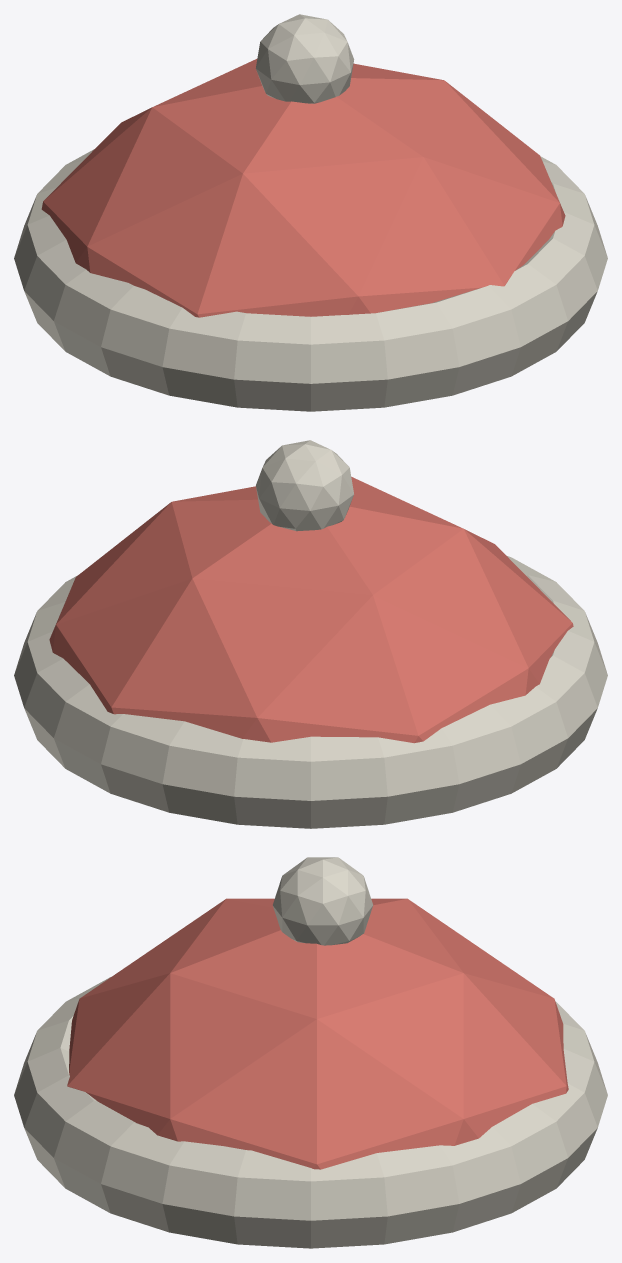
File: hw-beanie.glb
The picture shows the model from 3 angles, top to bottom: view 1: azimuth 30°, elevation 25°; view 2: azimuth 150°, elevation 25°; view 3: azimuth 270°, elevation 25°; orthographic projection.
Parts seen in each view (by area): view 1: beanie_dome, beanie_fold, beanie_pom; view 2: beanie_dome, beanie_fold, beanie_pom; view 3: beanie_dome, beanie_fold, beanie_pom.
Part boxes in pixels (x1=…): beanie_dome: x1=41, y1=59, x2=565, y2=317; beanie_fold: x1=14, y1=149, x2=607, y2=411; beanie_pom: x1=255, y1=14, x2=354, y2=103; beanie_dome: x1=49, y1=477, x2=573, y2=743; beanie_fold: x1=14, y1=556, x2=607, y2=828; beanie_pom: x1=256, y1=440, x2=353, y2=531; beanie_dome: x1=67, y1=898, x2=568, y2=1169; beanie_fold: x1=14, y1=977, x2=607, y2=1248; beanie_pom: x1=272, y1=857, x2=373, y2=945.
Size of the model in its own units: 0.4957 by 0.2607 by 0.4957.
